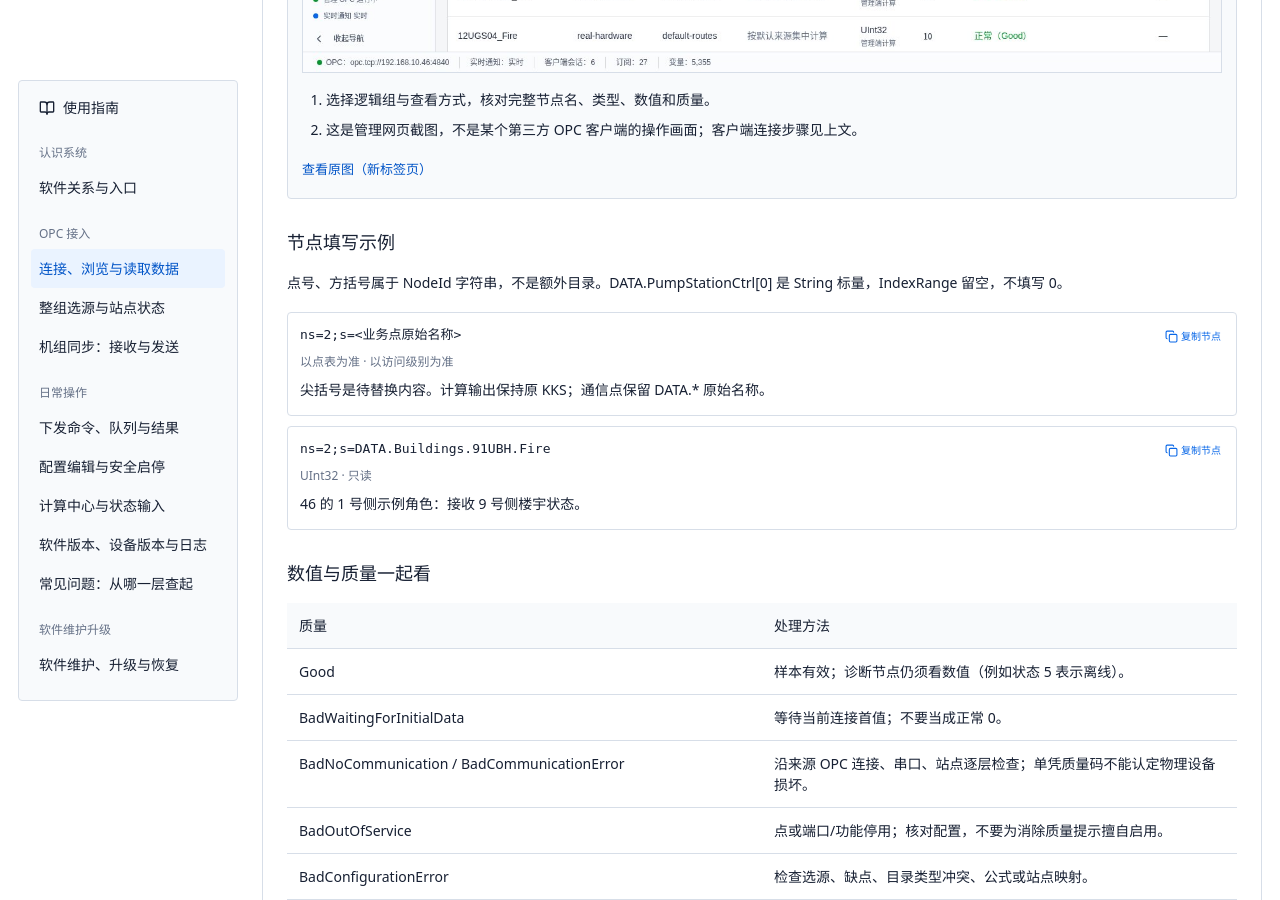
keeps a selectable manual copy field when the browser denies both copy APIs
(page scrolled)
Step 1. Click the button "复制节点" in the row of "ns=2;s=DATA.Buildings.91UBH.Fire" → (1193, 450), box [1162, 442, 1224, 459]
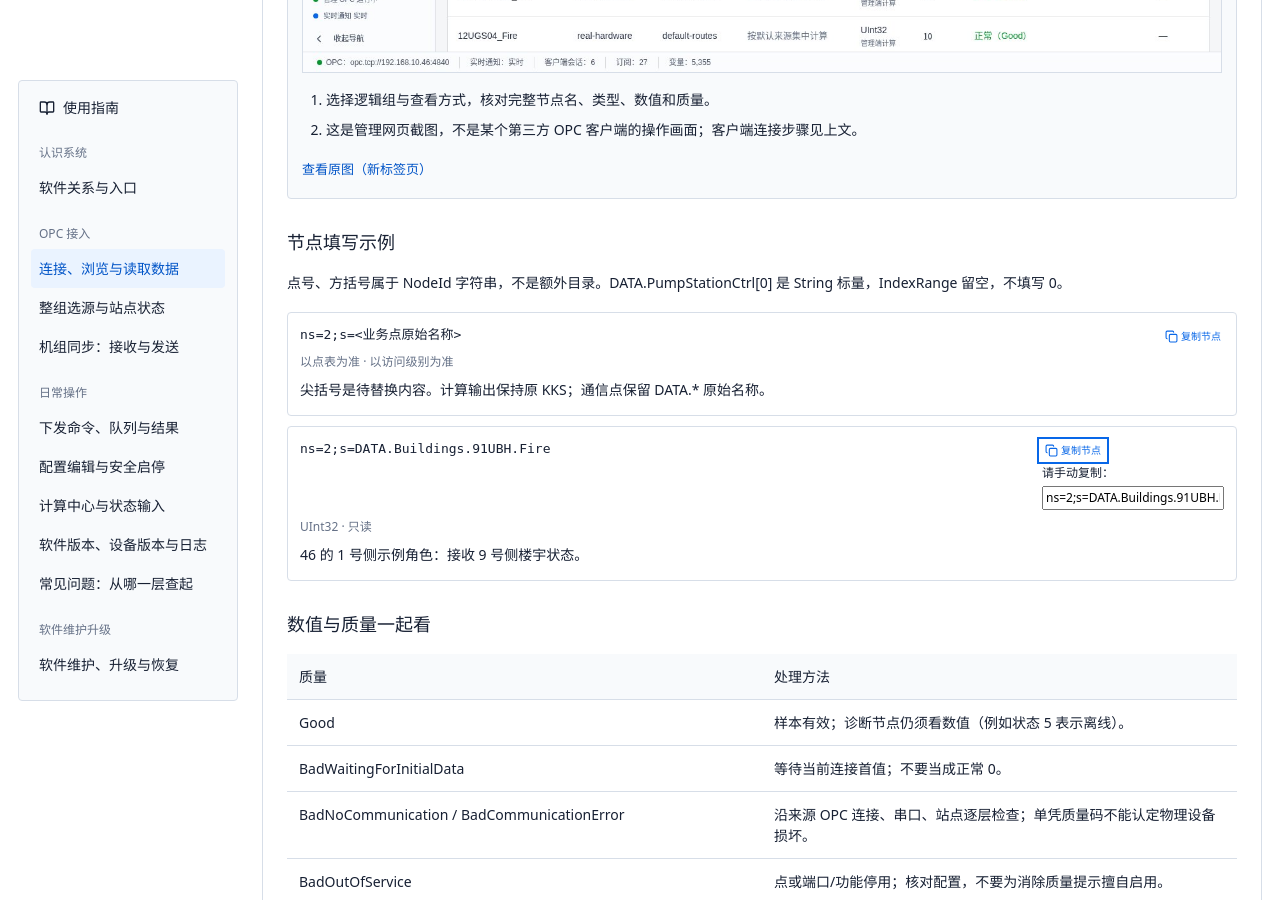
expect the field named "手动复制：复制节点" holds "ns=2;s=DATA.Buildings.91UBH.Fire": met, box [1042, 486, 1224, 510]
